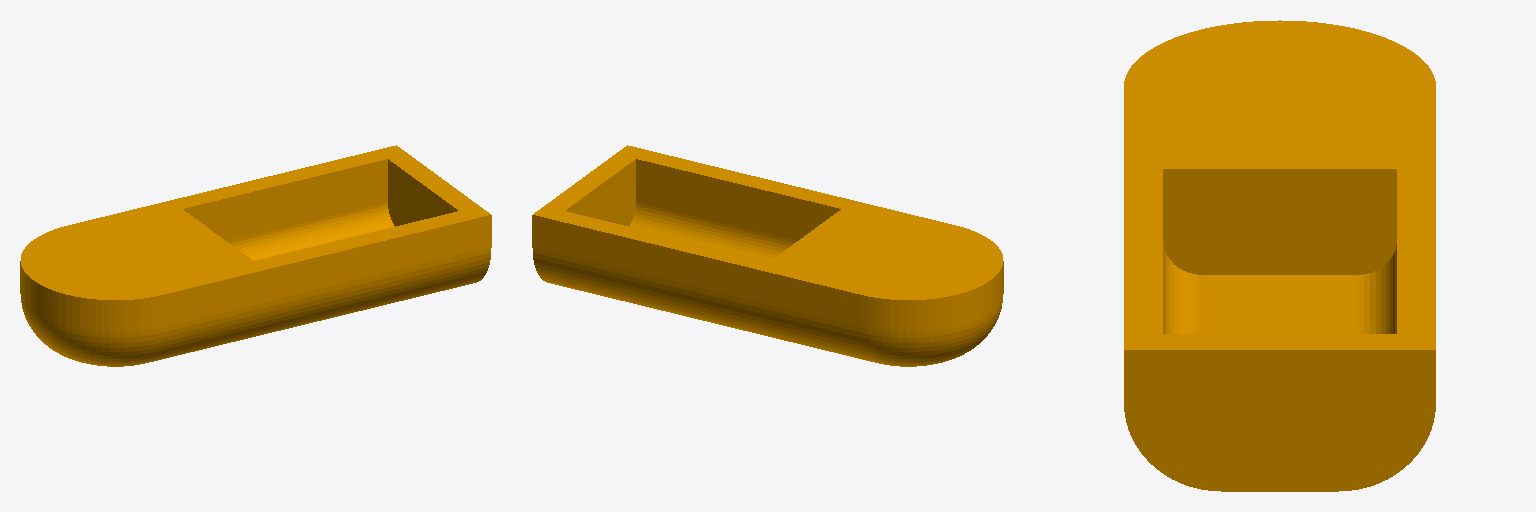
robot.urdf — ele306baat:
<?xml version='1.0' encoding='utf-8'?>
<robot name="ele306baat">
    <link name="base_link">
        <inertial>
            <origin xyz="-0.5552386532467776 0.19999999999999993 0.09853724397359867" rpy="0.0 0.0 0.0" />
            <mass value="372.2870915644892" />
            <inertia ixx="6.19751676834202" iyy="31.207900541600267" izz="34.91016063035846" ixy="-7.105427357601002e-15" iyz="-2.6645352591003757e-15" ixz="1.0508686428543967" />
        </inertial>
        <visual name="base_link_visual">
            <origin xyz="0.0 0.0 0.0" rpy="0.0 0.0 0.0" />
            <geometry>
                <mesh filename="meshes/base_link.stl" scale="0.001 0.001 0.001" />
            </geometry>
        </visual>
        <collision name="base_link_collision">
            <origin xyz="0.0 0.0 0.0" rpy="0.0 0.0 0.0" />
            <geometry>
                <mesh filename="meshes/base_link.stl" scale="0.001 0.001 0.001" />
            </geometry>
        </collision>
    </link>
</robot>

--- Render facts (derived) ---
The picture shows the robot from 3 angles, left to right: view 1: azimuth 30°, elevation 25°; view 2: azimuth 150°, elevation 25°; view 3: azimuth 270°, elevation 25°; orthographic projection.
Robot: ele306baat — 1 links, 0 joints (none); root link base_link; default pose: every joint at zero.
Links seen in each view (by area): view 1: base_link; view 2: base_link; view 3: base_link.
Link boxes in pixels (x1=…): base_link: x1=20, y1=145, x2=491, y2=366; base_link: x1=532, y1=145, x2=1003, y2=366; base_link: x1=1124, y1=20, x2=1435, y2=491.
Bounding box of the posed robot: 1 × 0.4 × 0.2 m (x, y, z).
Meshes: 1 distinct files referenced, 1 mesh visuals loaded (1 binary STL).
